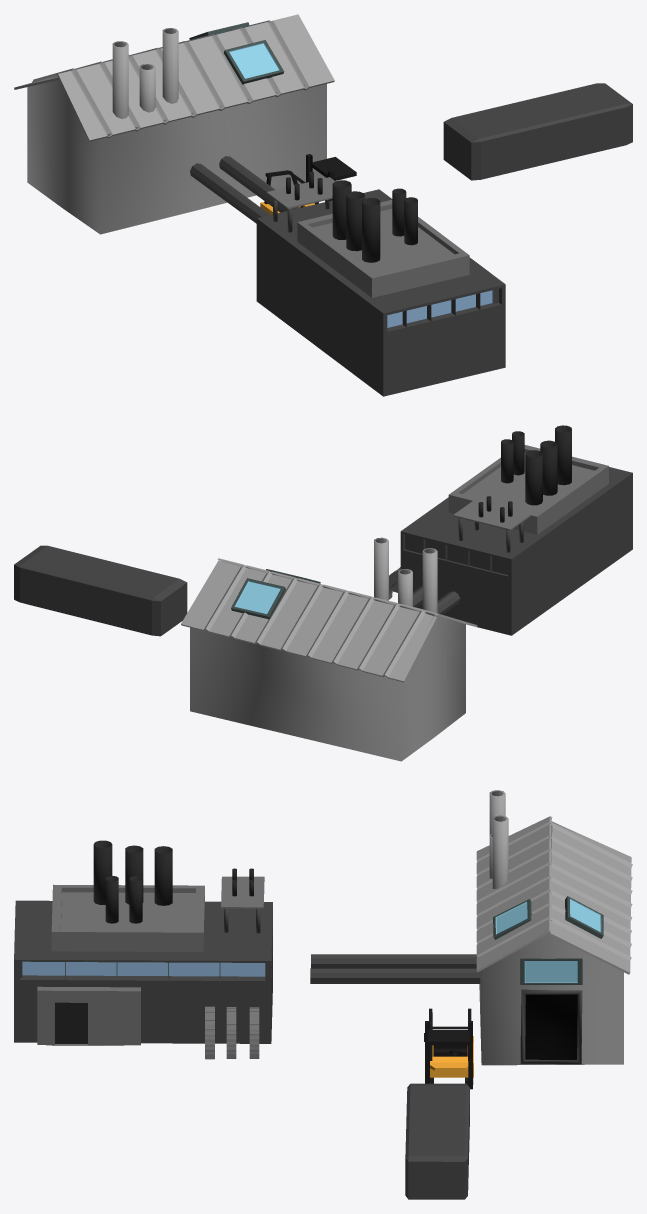
Rendered from Industrial3.fbx.
3 views of the same model, one above another, from view 1: azimuth 30°, elevation 25°; view 2: azimuth 150°, elevation 25°; view 3: azimuth 270°, elevation 25° (orthographic). The views are drawn at different scales.
Parts seen in each view (by area): view 1: Factory Hut, Building1, generator, joint pipes, Fork lift; view 2: Factory Hut, Building1, generator, joint pipes; view 3: Building1, Factory Hut, generator, joint pipes, Fork lift.
Part boxes in pixels (x1,y1,x2,y2): Factory Hut: (14,14,334,234); Building1: (256,171,505,396); generator: (443,83,632,180); joint pipes: (190,156,299,223); Fork lift: (260,154,356,214); Factory Hut: (181,537,477,761); Building1: (389,425,632,635); generator: (14,545,187,636); joint pipes: (413,586,460,614); Building1: (14,840,272,1059); Factory Hut: (476,790,632,1065); generator: (405,1083,469,1199); joint pipes: (310,954,480,983); Fork lift: (424,1008,473,1089).
Size of the model in its own units: 236 by 95.54 by 249.
